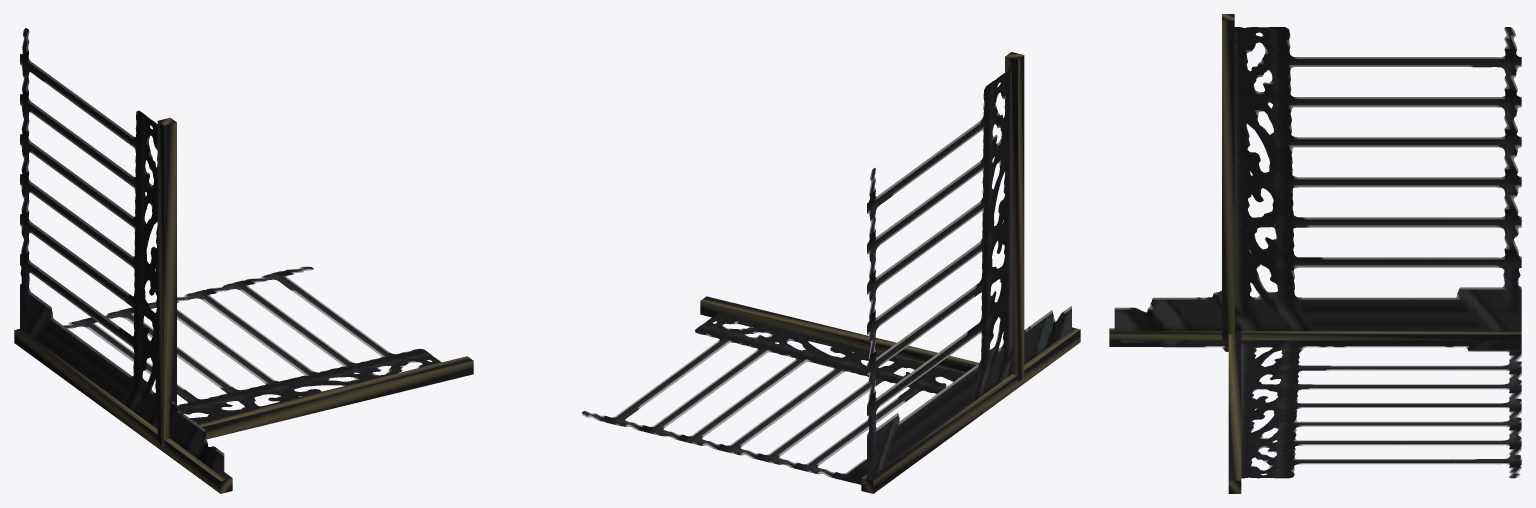
Rendered from pz_fence_png_fencing_01_3.obj.
The picture shows the model from 3 angles, left to right: view 1: azimuth 30°, elevation 25°; view 2: azimuth 150°, elevation 25°; view 3: azimuth 270°, elevation 25°; orthographic projection.
Size of the model in its own units: 1.02 by 1.02 by 1.16.
Materials: 1 (1 with a texture image).
